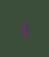three: (19, 20, 28, 36)
